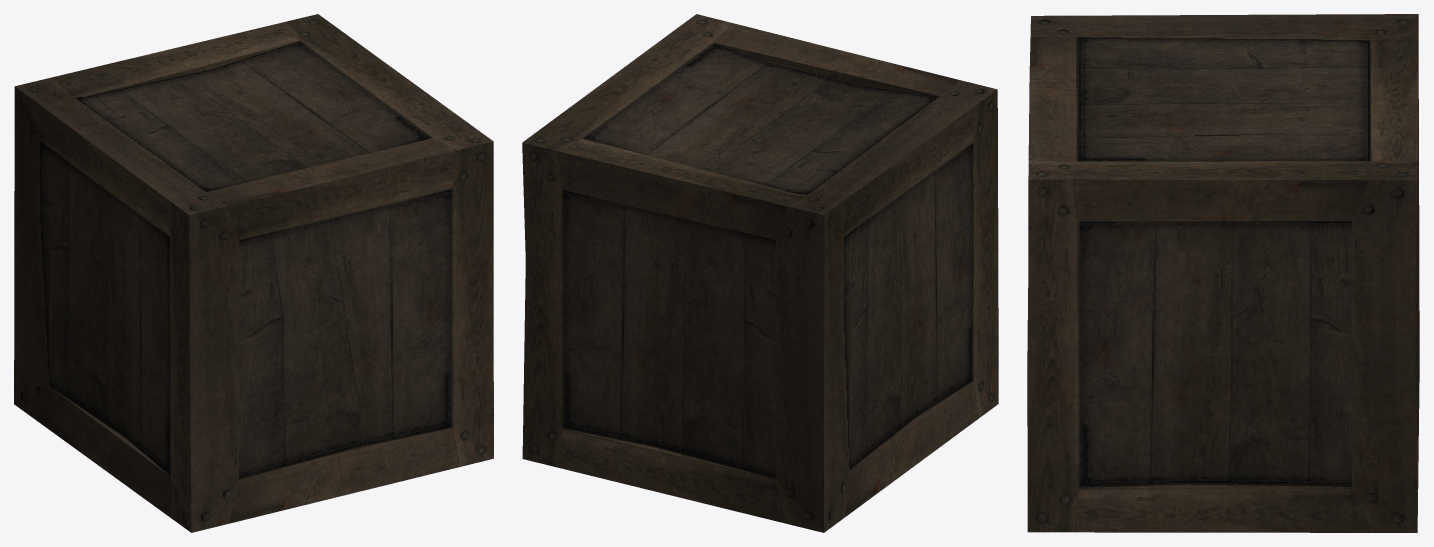
The model's file is wooden_crate_5.glb.
The picture shows the model from 3 angles, left to right: view 1: azimuth 30°, elevation 25°; view 2: azimuth 150°, elevation 25°; view 3: azimuth 270°, elevation 25°; orthographic projection. The views are drawn at different scales.
Parts seen in each view (by area): view 1: wooden_crate_5; view 2: wooden_crate_5; view 3: wooden_crate_5.
Boxes of the visible parts, x1,y1,x2,y2 form: wooden_crate_5: [14, 14, 493, 532]; wooden_crate_5: [522, 14, 998, 532]; wooden_crate_5: [1027, 14, 1419, 532].
Bounding box in the file's own units: 1.08 × 1.08 × 1.08.
1 material, 1 textured.
